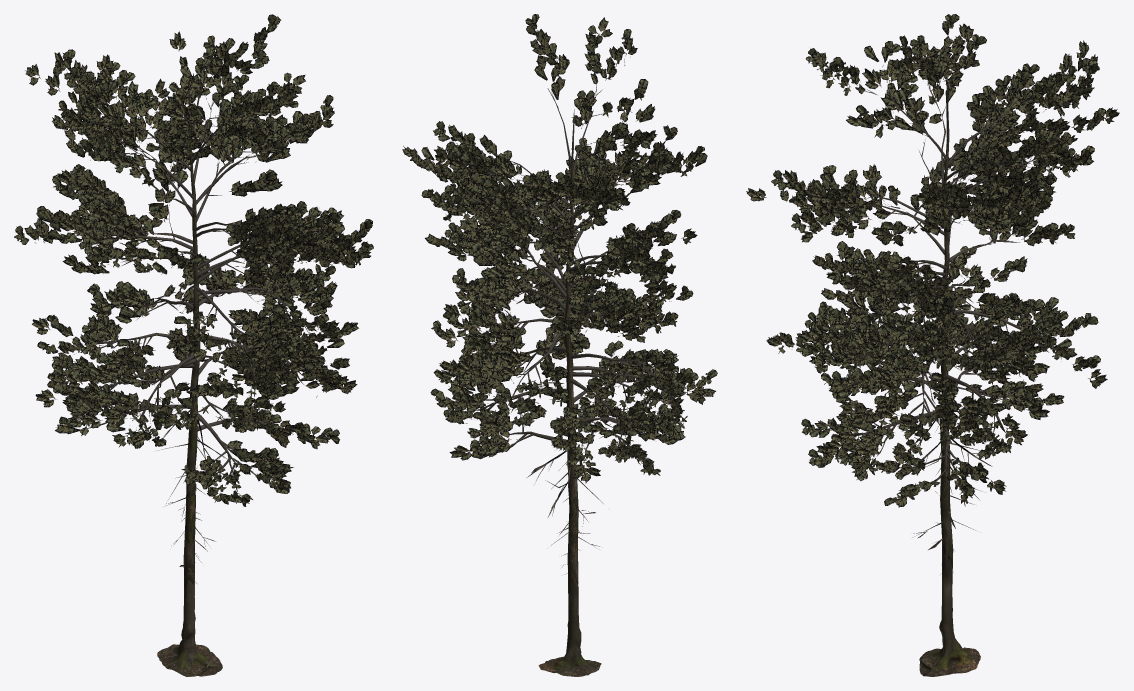
The model's file is pine-tree-b-near.glb.
3 renders of one model, left to right at view 1: azimuth 30°, elevation 25°; view 2: azimuth 150°, elevation 25°; view 3: azimuth 270°, elevation 25°, orthographic. The views are drawn at different scales.
Visible parts, largest first — view 1: Pine needles, Pine bark, Pine trunk; view 2: Pine needles, Pine bark, Pine trunk, Pine dry branches; view 3: Pine needles, Pine bark, Pine trunk, Pine dry branches.
Part boxes in pixels (left/top/right/bottom): Pine needles: left=14, top=14, right=373, bottom=506; Pine bark: left=76, top=56, right=314, bottom=485; Pine trunk: left=157, top=124, right=222, bottom=676; Pine needles: left=402, top=14, right=717, bottom=483; Pine bark: left=475, top=82, right=672, bottom=464; Pine trunk: left=538, top=145, right=601, bottom=676; Pine dry branches: left=527, top=432, right=603, bottom=578; Pine needles: left=746, top=14, right=1119, bottom=507; Pine bark: left=820, top=68, right=1061, bottom=489; Pine trunk: left=919, top=121, right=980, bottom=676; Pine dry branches: left=912, top=411, right=992, bottom=574.
Size of the model in its own units: 7.23 by 14.88 by 7.62.
Materials: 4 (4 with a texture image).
